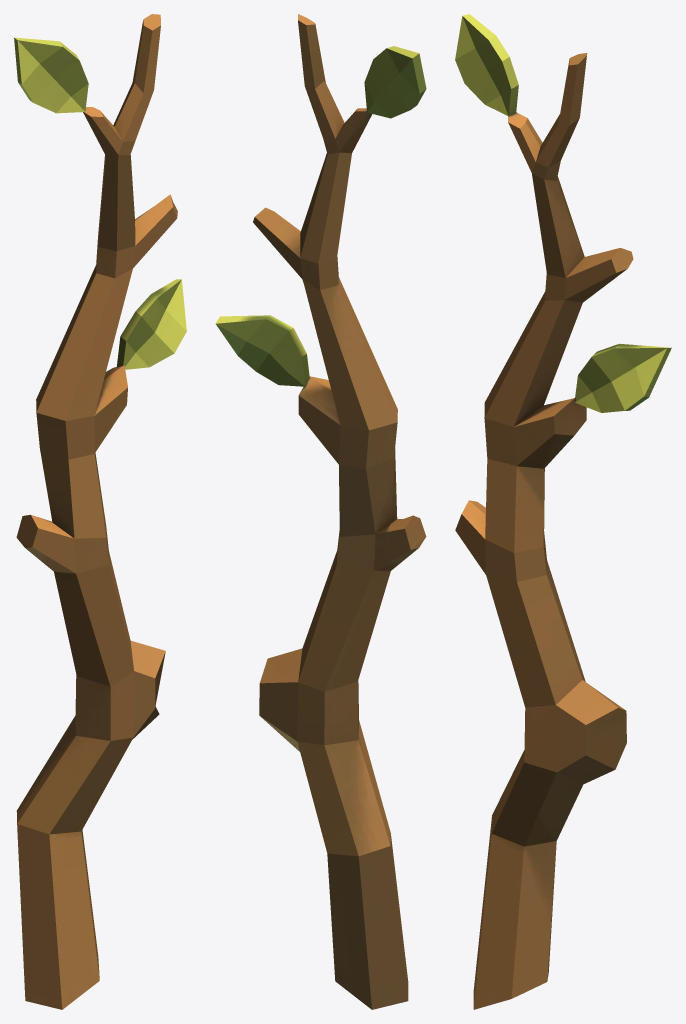
3 renders of one model, left to right at view 1: azimuth 30°, elevation 25°; view 2: azimuth 150°, elevation 25°; view 3: azimuth 330°, elevation 25°, orthographic. The views are drawn at different scales.
Parts seen in each view (by area): view 1: Tree_branch; view 2: Tree_branch; view 3: Tree_branch.
Part boxes in pixels (x1,y1,x2,y2): Tree_branch: (14,14,186,1009); Tree_branch: (215,14,426,1009); Tree_branch: (455,14,671,1009).
Bounding box in the file's own units: 0.2007 × 1 × 0.094.
Materials: 1 (1 with a texture image).
